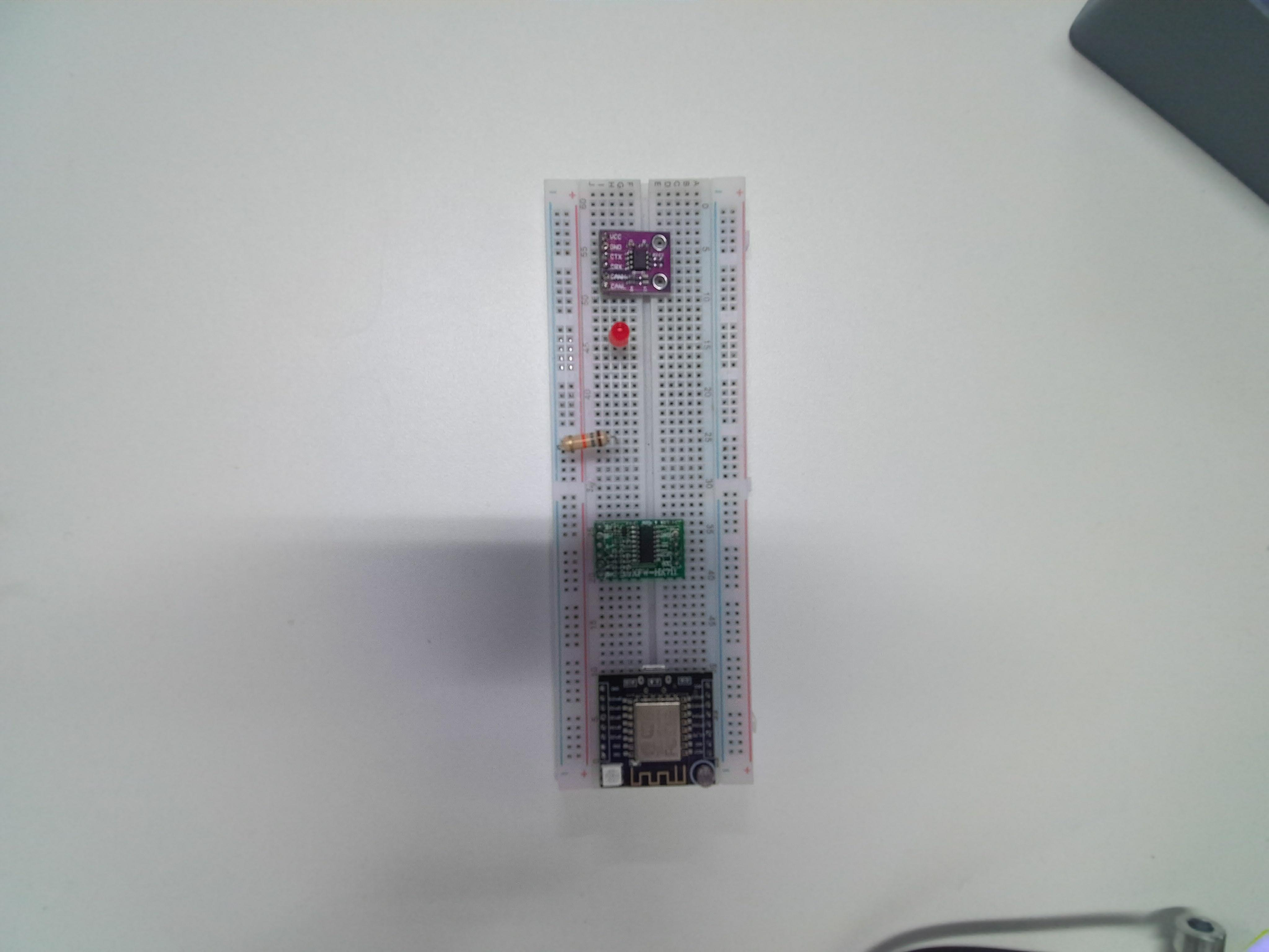base: (539, 176, 754, 800)
esp: (592, 668, 717, 791)
green-board: (587, 516, 690, 583)
purple-board: (598, 225, 676, 298)
red-led: (609, 316, 630, 352)
resistor-big: (559, 431, 610, 456)
